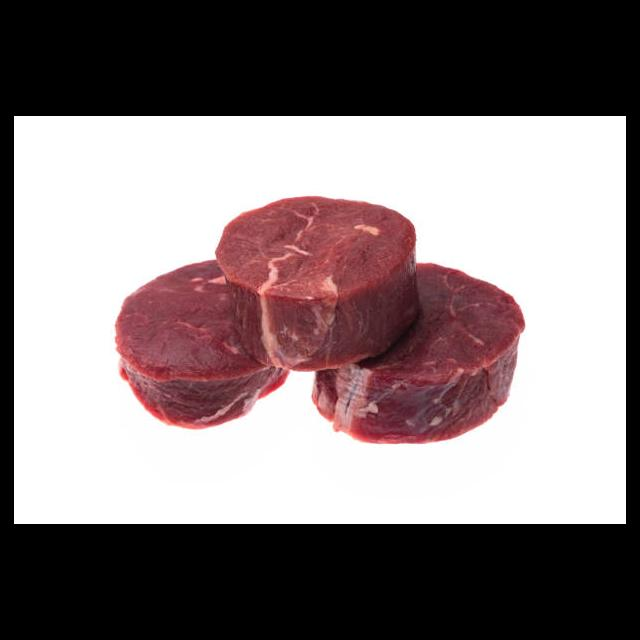beef: (114, 195, 525, 444)
